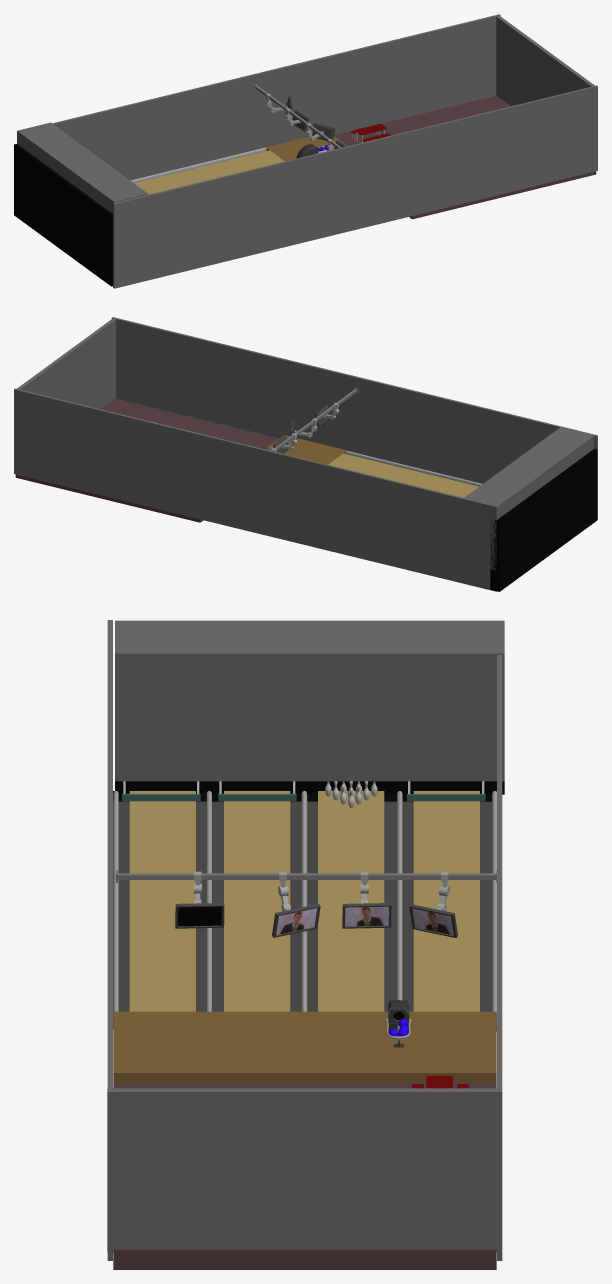
The model's file is bolera def 3.fbx.
The picture shows the model from 3 angles, top to bottom: view 1: azimuth 30°, elevation 25°; view 2: azimuth 150°, elevation 25°; view 3: azimuth 270°, elevation 25°; orthographic projection. The views are drawn at different scales.
Visible parts, largest first — view 1: Cube.002, Cube.003, Cube.001, Cube.020, Cube, Plane.010, Plane.001, Plane, Plane.004, Cube.007, Cylinder.005; view 2: Cube.003, Cube.002, Cube.001, Cube, Cube.020, Plane.010, Plane.008, Plane, Plane.011, Cube.007; view 3: Cube, Cube.020, Plane, Plane.013, Plane.008, Plane.003, Plane.002, Plane.001, Plane.010, Cube.002, Cube.001, Cube.003 (+10 smaller).
Boxes of the visible parts, x1,y1,x2,y2 form: Cube.002: (113,85,597,288); Cube.003: (52,14,500,180); Cube.001: (14,144,112,286); Cube.020: (496,16,596,167); Cube: (17,122,148,213); Plane.010: (334,95,596,219); Plane.001: (134,150,284,194); Plane: (266,136,347,161); Plane.004: (130,147,266,183); Cube.007: (253,84,341,148); Cylinder.005: (351,124,390,142); Cube.003: (14,388,496,591); Cube.002: (111,317,597,519); Cube.001: (490,448,597,591); Cube: (462,427,594,570); Cube.020: (17,318,115,409); Plane.010: (15,398,279,522); Plane.008: (328,453,478,497); Plane: (267,435,346,464); Plane.011: (346,451,482,486); Cube.007: (271,387,358,451); Cube: (115,620,504,781); Cube.020: (107,1088,496,1251); Plane: (113,1011,496,1082); Plane.013: (113,801,496,1029); Plane.008: (129,791,195,1011); Plane.003: (224,791,290,1011); Plane.002: (318,791,384,1011); Plane.001: (413,791,479,1011); Plane.010: (113,1082,496,1269); Cube.002: (107,620,112,1260); Cube.001: (115,781,504,794); Cube.003: (497,655,502,1260).
Bounding box in the file's own units: 3691 × 652 × 1309.
